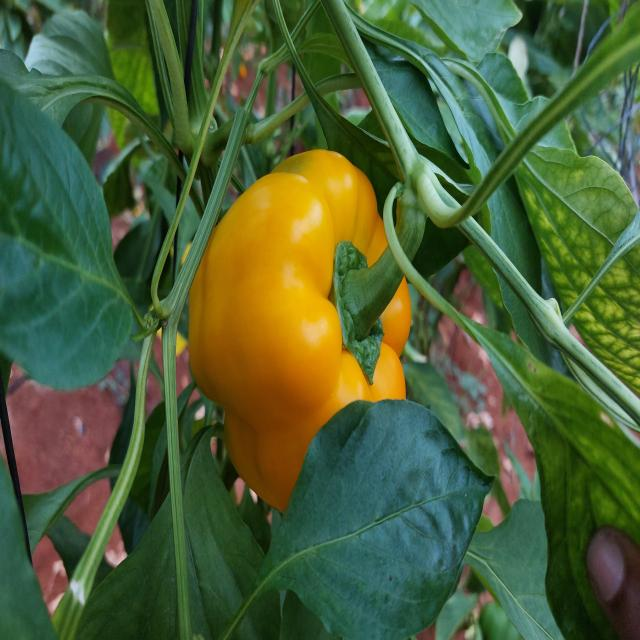Yellow-Ready-to-Harvest: (186, 147, 414, 520)
